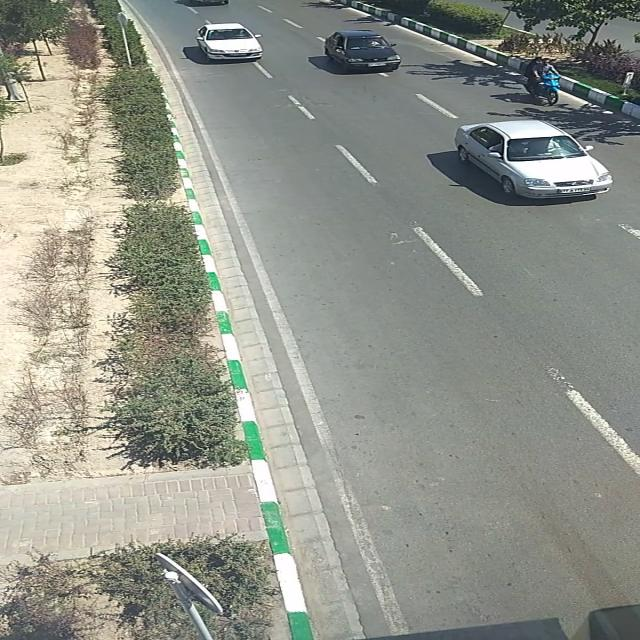car: (457, 120, 612, 198), (325, 31, 401, 73), (195, 24, 262, 62)
motor: (524, 55, 562, 105)
